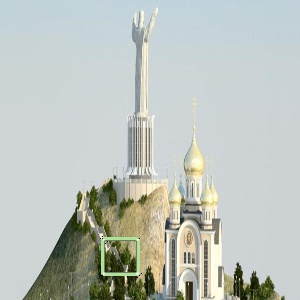square: (99, 237, 141, 277)
